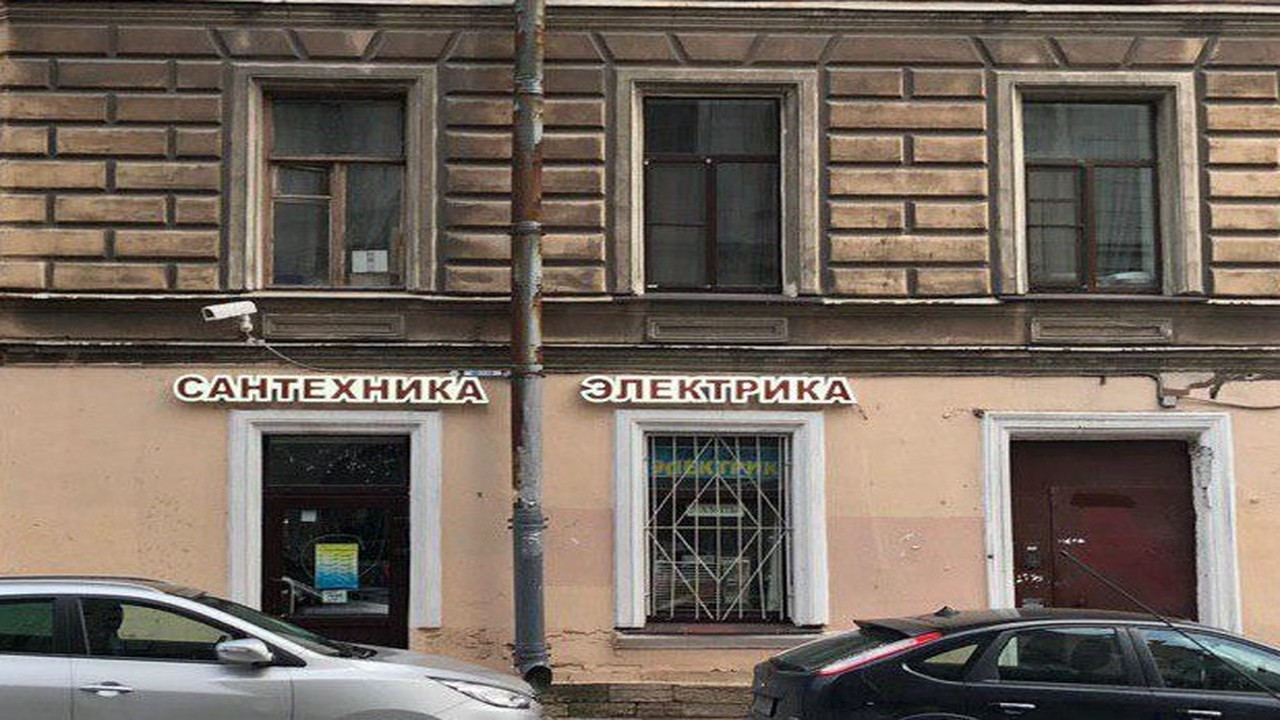door: (262, 490, 408, 645)
signboard: (168, 366, 485, 412), (576, 371, 867, 413)
window: (263, 92, 406, 292), (1022, 97, 1164, 296), (644, 96, 784, 292), (651, 433, 791, 627)
